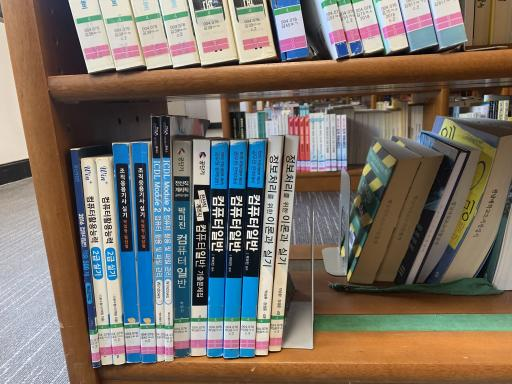book-spine: (71, 150, 101, 368), (269, 135, 299, 350), (81, 159, 112, 365), (113, 144, 142, 363), (97, 158, 126, 364), (240, 139, 266, 356), (257, 136, 282, 355), (132, 143, 156, 361), (225, 140, 247, 358), (207, 141, 228, 356), (191, 140, 211, 356), (172, 142, 189, 358), (151, 115, 164, 362), (161, 116, 173, 362)
